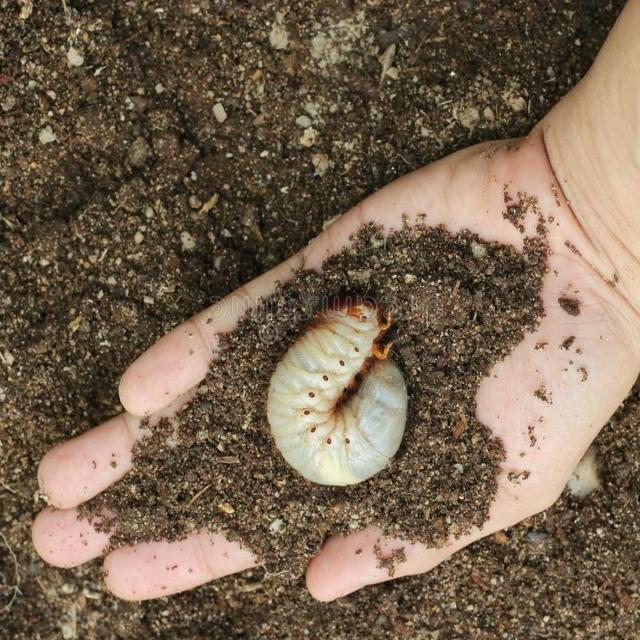grub: (258, 301, 419, 491)
